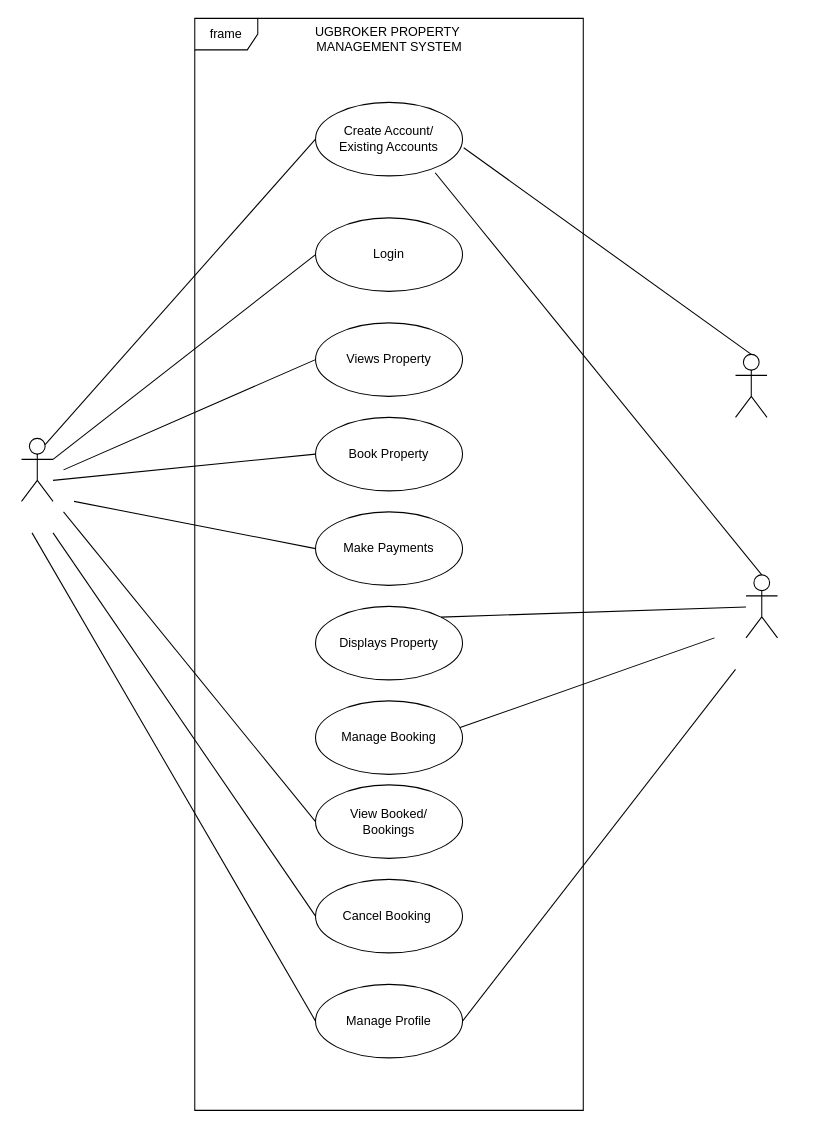
Some shapes in this 823 by 1129 pixel diagram are drawn without their labels. The centre of each missing label's shape, as x and y in pixels:
Administrator: (750,385)
Property Owner: (761,606)
Tenant: (36,469)
